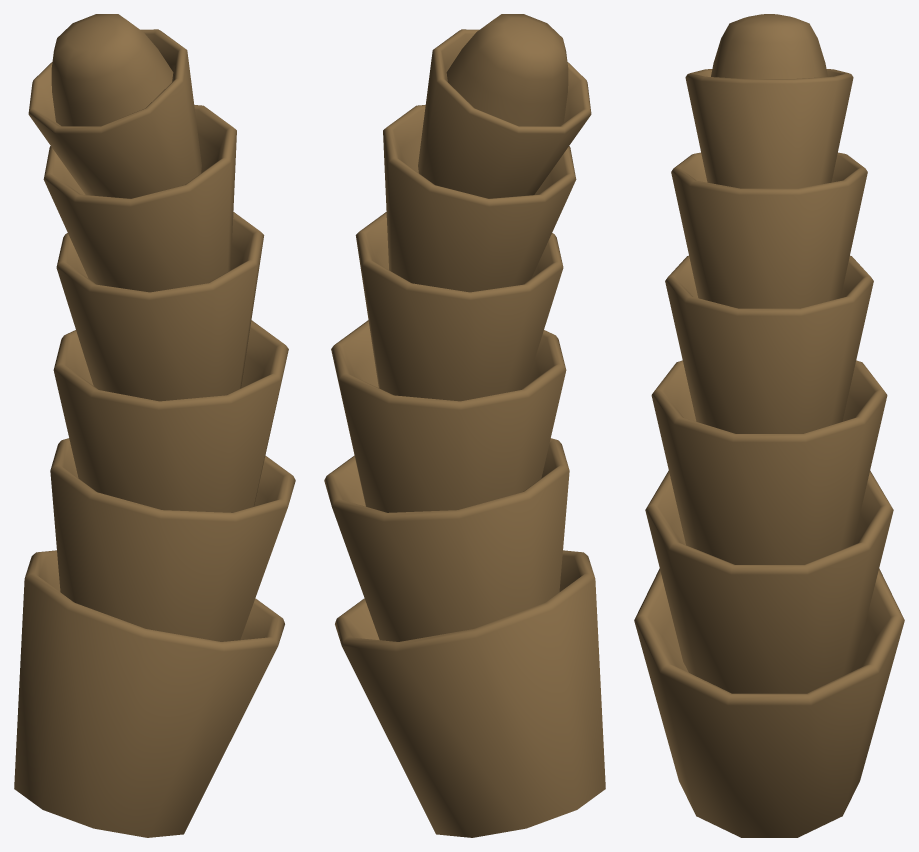
Rendered from palm-stem-2.obj.
3 renders of one model, left to right at view 1: azimuth 30°, elevation 25°; view 2: azimuth 150°, elevation 25°; view 3: azimuth 270°, elevation 25°, orthographic.
Parts seen in each view (by area): view 1: Segment_Cylinder, Segment_Cylinder.001, Segment_Cylinder.002, Segment_Cylinder.003, Segment_Cylinder.004, Segment_Cylinder.005, StemTop_Segment_Cylinder_StemTop_Segment_Cylinder.004; view 2: Segment_Cylinder, Segment_Cylinder.001, Segment_Cylinder.002, Segment_Cylinder.003, Segment_Cylinder.004, Segment_Cylinder.005, StemTop_Segment_Cylinder_StemTop_Segment_Cylinder.004; view 3: Segment_Cylinder, Segment_Cylinder.001, Segment_Cylinder.002, Segment_Cylinder.003, Segment_Cylinder.004, Segment_Cylinder.005, StemTop_Segment_Cylinder_StemTop_Segment_Cylinder.004.
Part boxes in pixels (x1,y1,x2,y2): Segment_Cylinder: (14, 550, 284, 837); Segment_Cylinder.001: (50, 438, 295, 641); Segment_Cylinder.002: (53, 320, 288, 512); Segment_Cylinder.003: (56, 212, 264, 401); Segment_Cylinder.004: (43, 105, 236, 292); Segment_Cylinder.005: (28, 29, 201, 198); StemTop_Segment_Cylinder_StemTop_Segment_Cylinder.004: (51, 14, 173, 126); Segment_Cylinder: (335, 550, 605, 837); Segment_Cylinder.001: (324, 438, 569, 641); Segment_Cylinder.002: (331, 320, 566, 512); Segment_Cylinder.003: (355, 212, 563, 401); Segment_Cylinder.004: (383, 105, 576, 292); Segment_Cylinder.005: (418, 29, 591, 198); StemTop_Segment_Cylinder_StemTop_Segment_Cylinder.004: (446, 14, 568, 126); Segment_Cylinder: (634, 568, 904, 837); Segment_Cylinder.001: (645, 470, 893, 693); Segment_Cylinder.002: (651, 360, 887, 564); Segment_Cylinder.003: (665, 255, 873, 433); Segment_Cylinder.004: (671, 152, 867, 308); Segment_Cylinder.005: (685, 69, 853, 188); StemTop_Segment_Cylinder_StemTop_Segment_Cylinder.004: (711, 14, 827, 78).
Bounding box in the file's own units: 1.2 × 3.71 × 1.16.
